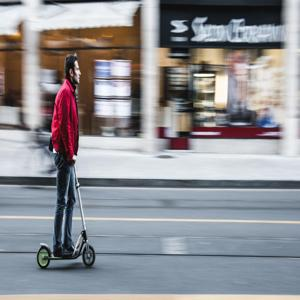human on a scooter: (35, 54, 97, 270)
